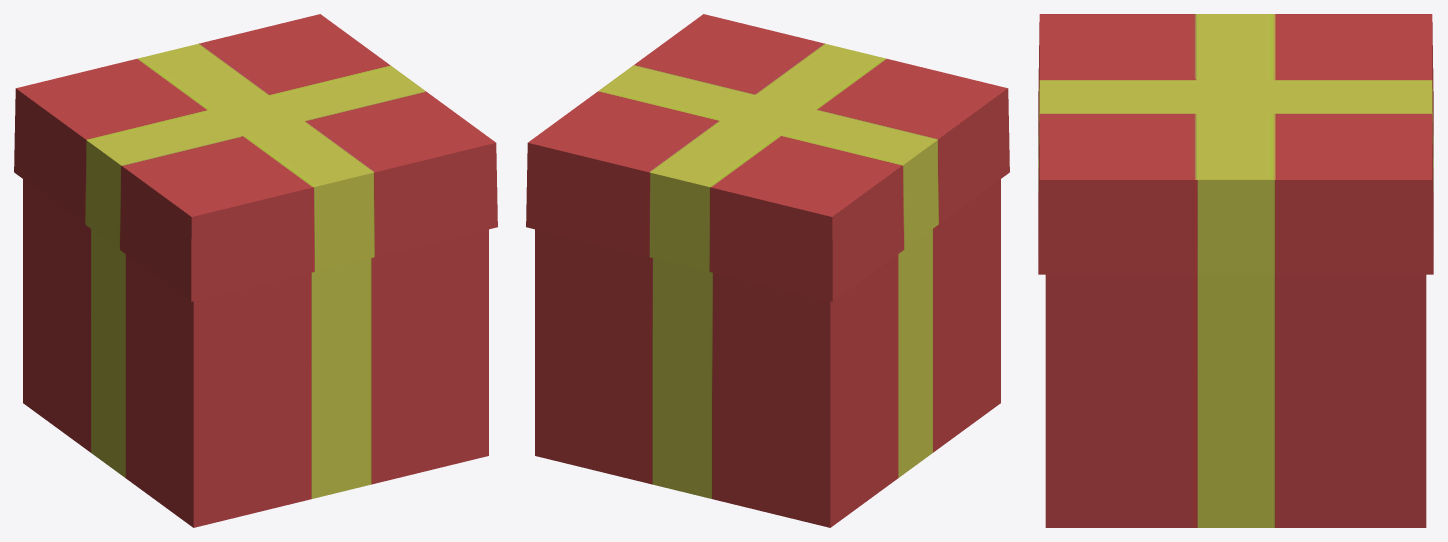
3 views of the same model, side by side, from view 1: azimuth 30°, elevation 25°; view 2: azimuth 150°, elevation 25°; view 3: azimuth 270°, elevation 25° (orthographic). The views are drawn at different scales.
Parts seen in each view (by area): view 1: Cube.012; view 2: Cube.012; view 3: Cube.012.
Part boxes in pixels (left/top/right/bottom): Cube.012: left=14, top=14, right=497, bottom=527; Cube.012: left=526, top=14, right=1009, bottom=527; Cube.012: left=1038, top=14, right=1433, bottom=527.
Size of the model in its own units: 9623 by 9411 by 9623.
Materials: 5 (3 with a texture image).
